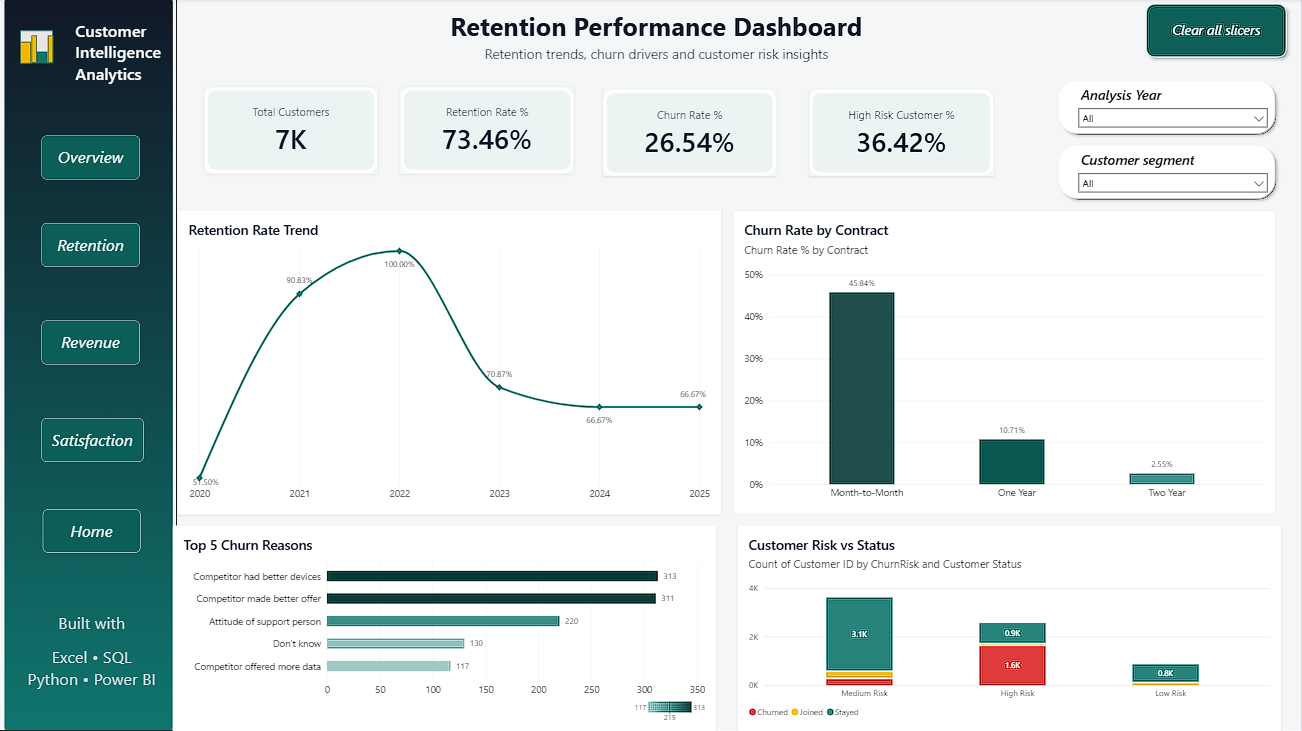

This screenshot's page, from the dashboard's own definition file:
{"tool":"powerbi","page":{"name":"Retention Analysis","canvas":[1920,1080],"ordinal":2},"visuals":[{"type":"shape","box":[32,48,48,48],"z":0,"group":"g1"},{"type":"shape","box":[1552,208,336,96],"z":0},{"type":"shape","box":[1552,112,336,96],"z":1000},{"type":"image","box":[0,0,264,1080],"z":2000},{"type":"group","id":"g1","title":"Group 1","box":[32,48,48,48],"z":3000},{"type":"textbox","box":[112,32,128,112],"z":4000},{"type":"textbox","box":[16,904,240,176],"z":5000},{"type":"textbox","title":"Retention Performance Dashboard","box":[256,16,1424,80],"z":6000},{"type":"cardVisual","fields":{"Data":["_Measures.Total Customers"]},"box":[302.6,130.2,256,128],"z":7000},{"type":"cardVisual","fields":{"Data":["_Measures.Retention Rate %"]},"box":[590.6,130.2,256,128],"z":8000},{"type":"cardVisual","fields":{"Data":["_Measures.Churn Rate %"]},"box":[888.7,133.9,256,128],"z":9000},{"type":"shape","box":[32,64,16,32],"z":10000,"group":"g1"},{"type":"cardVisual","fields":{"Data":["_Measures.High Risk Customer %"]},"box":[1192.7,133.9,272,128],"z":10000},{"type":"shape","box":[56,80,16,16],"z":11000,"group":"g1"},{"type":"slicer","fields":{"Values":["DimDate.Year"]},"box":[1584,128,288,64],"z":11000},{"type":"shape","box":[72,56,8,40],"z":12000,"group":"g1"},{"type":"slicer","fields":{"Values":["FactRetention.CustomerSegment"]},"box":[1584,224,288,64],"z":12000},{"type":"actionButton","box":[1680,0,224,96],"z":13000},{"type":"shape","box":[48,56,8,40],"z":13000,"group":"g1"},{"type":"lineChart","title":"Retention Rate Trend","fields":{"Category":["DimDate.Year"],"Y":["_Measures.Retention Rate %"]},"box":[264,312,800,448],"z":14000},{"type":"clusteredColumnChart","title":"Churn Rate by Contract","fields":{"Category":["DimSubscription.Contract"],"Y":["_Measures.Churn Rate %"]},"box":[1080,312,800,448],"z":15000},{"type":"clusteredBarChart","title":"Top 5 Churn Reasons","fields":{"Y":["CountNonNull(FactRetention.Customer ID)"],"Category":["FactRetention.Churn Reason"]},"box":[256,776,800,304],"z":16000},{"type":"columnChart","title":"Customer Risk vs Status","fields":{"Category":["FactRetention.ChurnRisk"],"Y":["CountNonNull(FactRetention.Customer ID)"],"Series":["FactRetention.Customer Status"]},"box":[1088,776,800,304],"z":17000},{"type":"actionButton","box":[62.3,203.3,145,65],"z":18000},{"type":"actionButton","box":[62.3,331.3,145,65],"z":19000},{"type":"actionButton","box":[62.3,475.3,145,65],"z":20000},{"type":"actionButton","box":[62.3,619.3,150,65],"z":21000},{"type":"actionButton","box":[64,752,144,64],"z":22000}]}

Visuals, with their boxes on the page's 1920x1080 design canvas (x1, y1, x2, y2). These are canvas units, not pixel positions in the 1302x731 screenshot, which may show the page scaled, cropped or inside an application window:
shape: 32:48:80:96
shape: 1552:208:1888:304
shape: 1552:112:1888:208
image: 0:0:264:1080
"Group 1" group: 32:48:80:96
textbox: 112:32:240:144
textbox: 16:904:256:1080
"Retention Performance Dashboard" textbox: 256:16:1680:96
cardVisual - _Measures.Total Customers: 303:130:559:258
cardVisual - _Measures.Retention Rate %: 591:130:847:258
cardVisual - _Measures.Churn Rate %: 889:134:1145:262
shape: 32:64:48:96
cardVisual - _Measures.High Risk Customer %: 1193:134:1465:262
shape: 56:80:72:96
slicer - DimDate.Year: 1584:128:1872:192
shape: 72:56:80:96
slicer - FactRetention.CustomerSegment: 1584:224:1872:288
actionButton: 1680:0:1904:96
shape: 48:56:56:96
"Retention Rate Trend" lineChart: 264:312:1064:760
"Churn Rate by Contract" clusteredColumnChart: 1080:312:1880:760
"Top 5 Churn Reasons" clusteredBarChart: 256:776:1056:1080
"Customer Risk vs Status" columnChart: 1088:776:1888:1080
actionButton: 62:203:207:268
actionButton: 62:331:207:396
actionButton: 62:475:207:540
actionButton: 62:619:212:684
actionButton: 64:752:208:816
